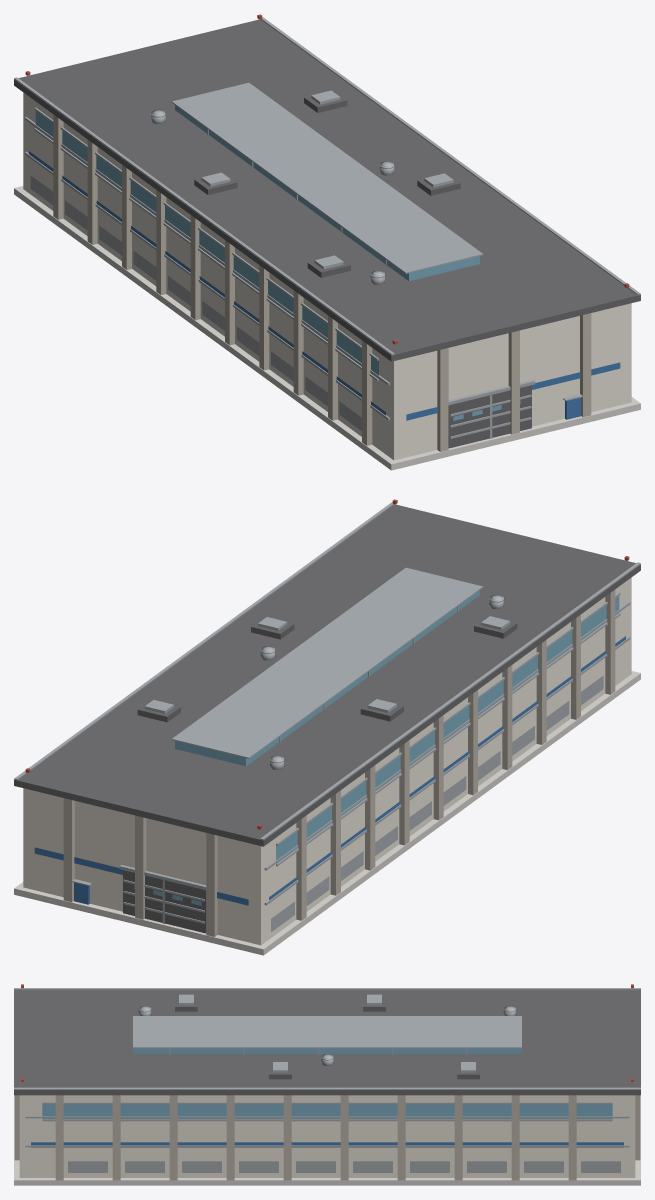
The model's file is turbine_hall_short.glb.
3 views of the same model, one above another, from view 1: azimuth 30°, elevation 25°; view 2: azimuth 150°, elevation 25°; view 3: azimuth 270°, elevation 25° (orthographic). The views are drawn at different scales.
Parts seen in each view (by area): view 1: Merged_RoofDark, turbine_hall, Merged_PropsMetal, Merged_FacadeAccent, turbine_plinth, Merged_FacadeGlass, Merged_CityAccentBlue; view 2: Merged_RoofDark, turbine_hall, Merged_PropsMetal, Merged_FacadeAccent, turbine_plinth, Merged_FacadeGlass, Merged_CityAccentBlue; view 3: Merged_RoofDark, turbine_hall, Merged_PropsMetal, Merged_FacadeGlass, Merged_FacadeAccent, turbine_plinth, Merged_CityAccentBlue.
Part boxes in pixels (box(x1,y1,x2,y2)): Merged_RoofDark: box(14, 19, 640, 448); turbine_hall: box(23, 92, 631, 460); Merged_PropsMetal: box(14, 17, 640, 438); Merged_FacadeAccent: box(53, 114, 591, 451); turbine_plinth: box(14, 186, 640, 470); Merged_FacadeGlass: box(35, 105, 520, 420); Merged_CityAccentBlue: box(29, 151, 620, 420); Merged_RoofDark: box(14, 504, 640, 933); turbine_hall: box(23, 577, 631, 945); Merged_PropsMetal: box(14, 502, 640, 932); Merged_FacadeAccent: box(63, 589, 615, 936); turbine_plinth: box(14, 671, 640, 955); Merged_FacadeGlass: box(134, 590, 619, 905); Merged_CityAccentBlue: box(34, 636, 625, 905); Merged_RoofDark: box(14, 990, 640, 1095); turbine_hall: box(19, 1095, 635, 1177); Merged_PropsMetal: box(14, 988, 640, 1172); Merged_FacadeGlass: box(42, 1048, 612, 1119); Merged_FacadeAccent: box(14, 1095, 640, 1180); turbine_plinth: box(14, 1095, 640, 1185); Merged_CityAccentBlue: box(31, 1142, 623, 1147).
Size of the model in its own units: 42 by 20 by 110.
